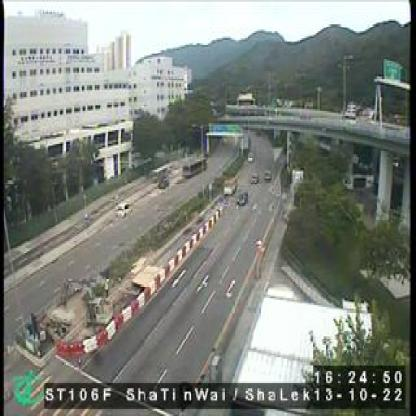Car: (115, 202, 131, 218), (237, 191, 250, 208), (262, 169, 272, 183), (250, 173, 259, 185)
Truck: (181, 154, 209, 179)
